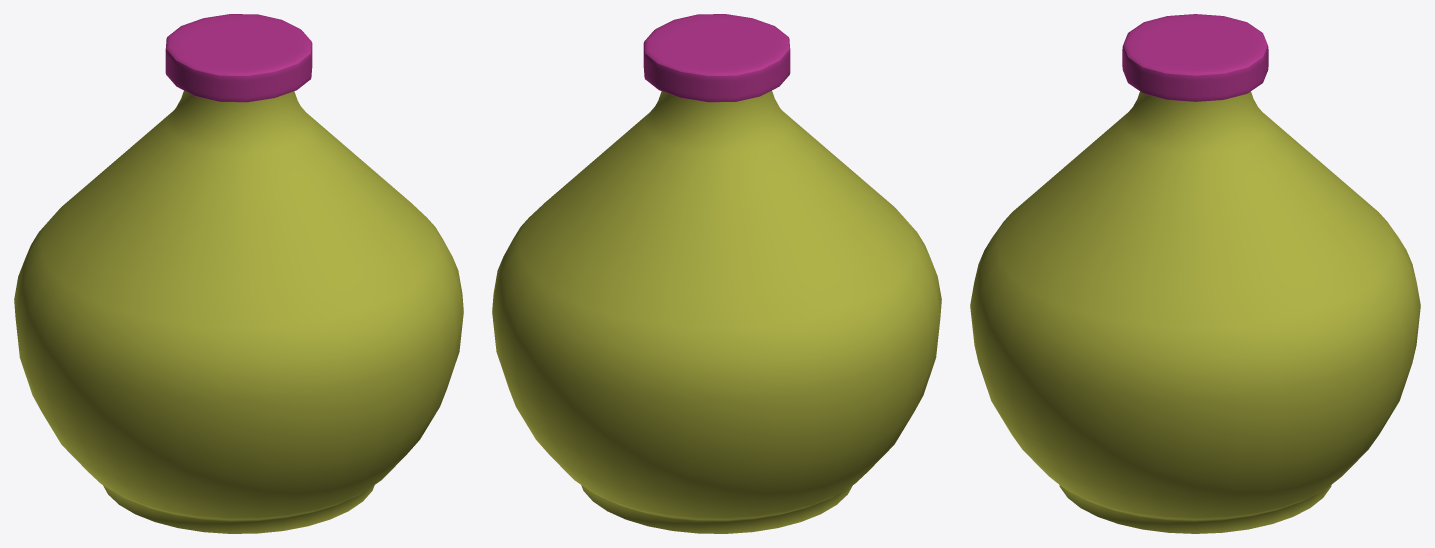
File: PotionBottle_Style_01.fbx
3 views of the same model, side by side, from view 1: azimuth 30°, elevation 25°; view 2: azimuth 150°, elevation 25°; view 3: azimuth 270°, elevation 25° (orthographic).
Parts seen in each view (by area): view 1: SetA_PotionBottle_Style_01; view 2: SetA_PotionBottle_Style_01; view 3: SetA_PotionBottle_Style_01.
Boxes of the visible parts, <box> form: SetA_PotionBottle_Style_01: <box>14,14,463,533</box>; SetA_PotionBottle_Style_01: <box>492,14,941,533</box>; SetA_PotionBottle_Style_01: <box>970,14,1420,533</box>.
Size of the model in its own units: 0.074 by 0.0784 by 0.074.
